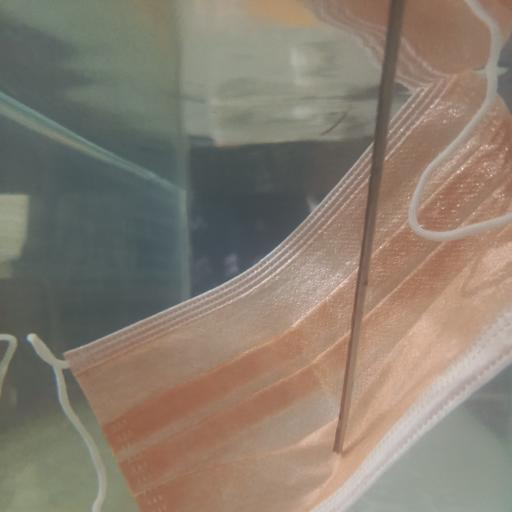mask: (62, 64, 511, 511)
